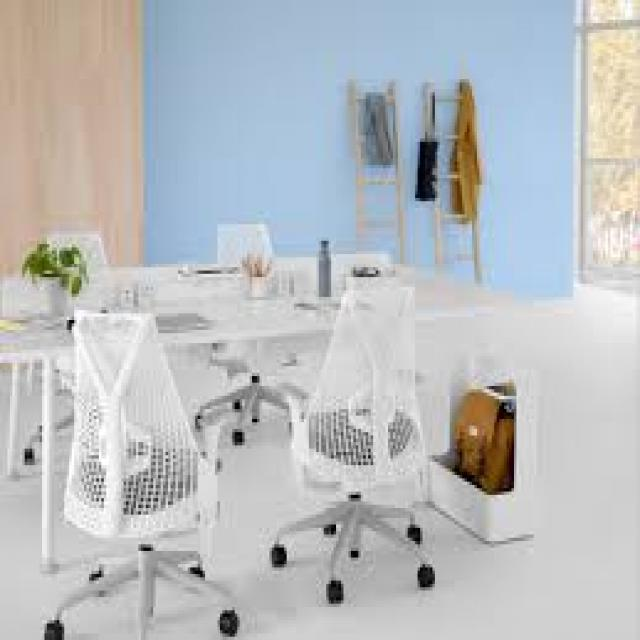chair: (44, 303, 242, 640), (273, 284, 440, 604), (23, 226, 148, 466), (201, 217, 300, 437)
